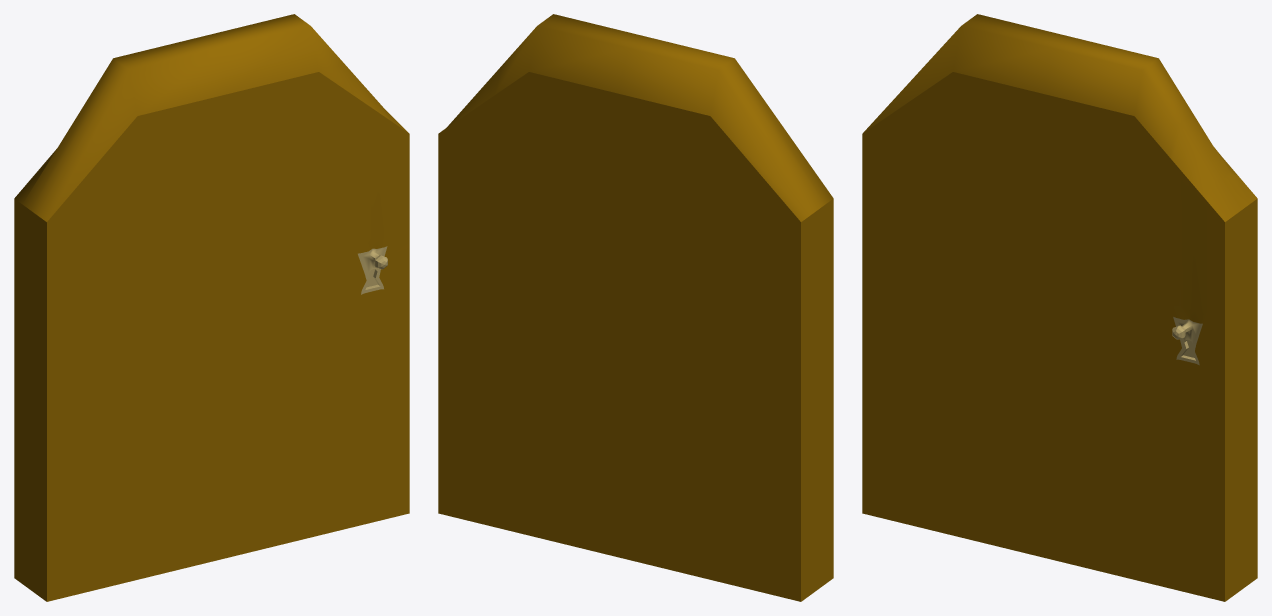
File: door.fbx
3 renders of one model, left to right at view 1: azimuth 30°, elevation 25°; view 2: azimuth 150°, elevation 25°; view 3: azimuth 330°, elevation 25°, orthographic.
Parts seen in each view (by area): view 1: polySurface3; view 2: polySurface3; view 3: polySurface3.
Part boxes in pixels (x1=…): polySurface3: x1=14, y1=14, x2=409, y2=601; polySurface3: x1=438, y1=14, x2=833, y2=601; polySurface3: x1=862, y1=14, x2=1257, y2=601.
Bounding box in the file's own units: 9.72 × 12.9 × 2.08.
